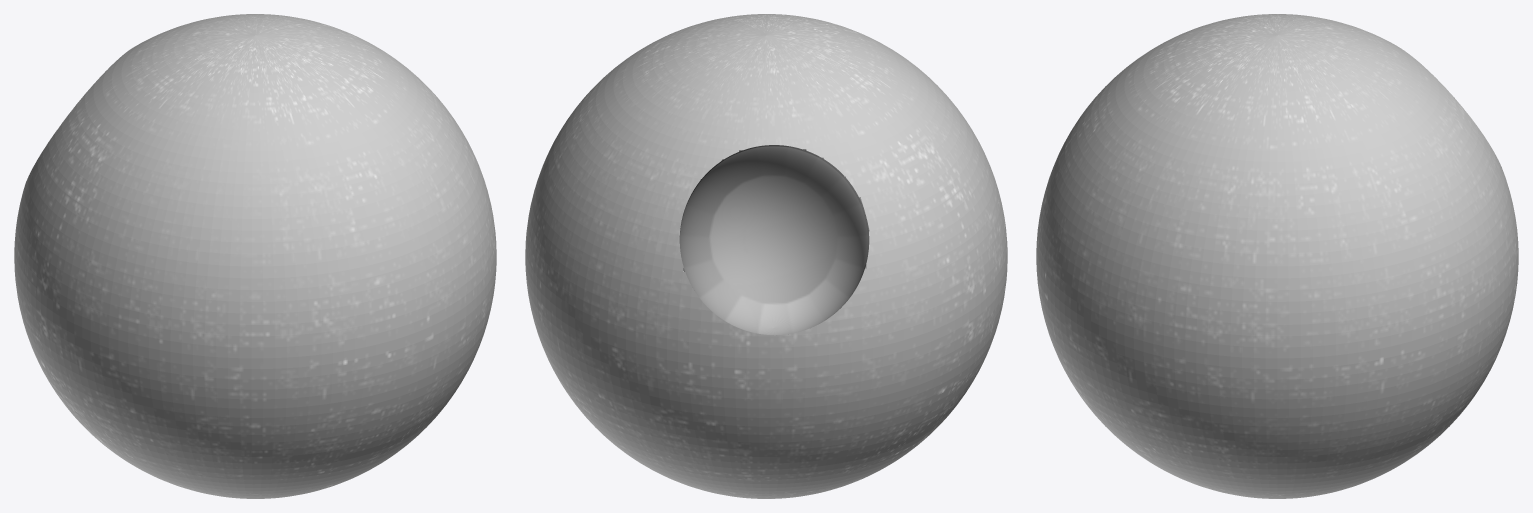
File: deathstar.fbx
3 renders of one model, left to right at view 1: azimuth 30°, elevation 25°; view 2: azimuth 150°, elevation 25°; view 3: azimuth 270°, elevation 25°, orthographic.
Parts seen in each view (by area): view 1: Sphere.001; view 2: Sphere.001, Sphere; view 3: Sphere.001.
Part boxes in pixels (<box>): Sphere.001: <box>14,14,496,498</box>; Sphere.001: <box>525,14,1007,498</box>; Sphere: <box>679,145,869,335</box>; Sphere.001: <box>1036,14,1518,498</box>.
Bounding box in the file's own units: 197 × 200 × 197.
